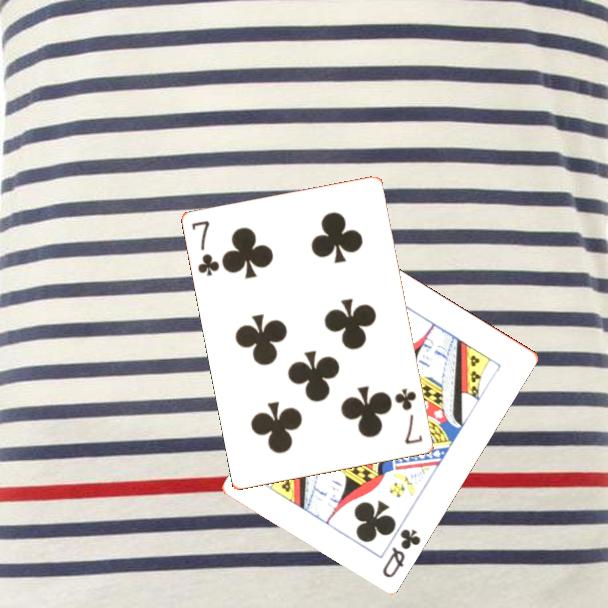c07: (391, 385, 426, 447), (188, 217, 223, 279)
c12: (379, 525, 423, 580)
